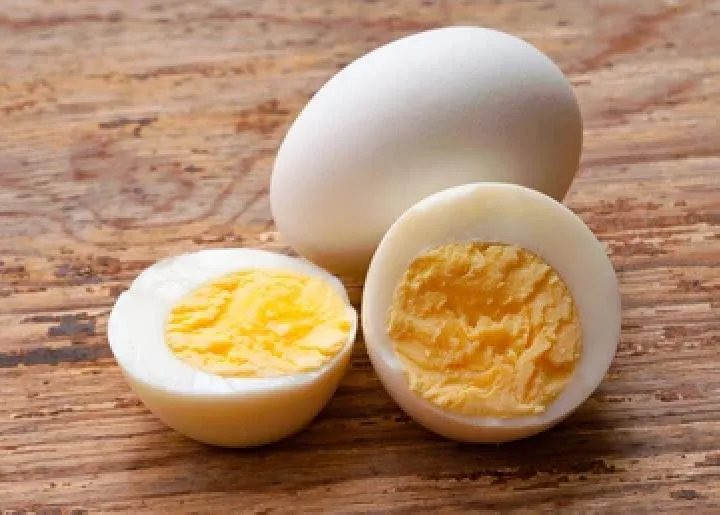telur: (390, 219, 585, 410), (144, 272, 315, 415), (328, 79, 555, 177)
